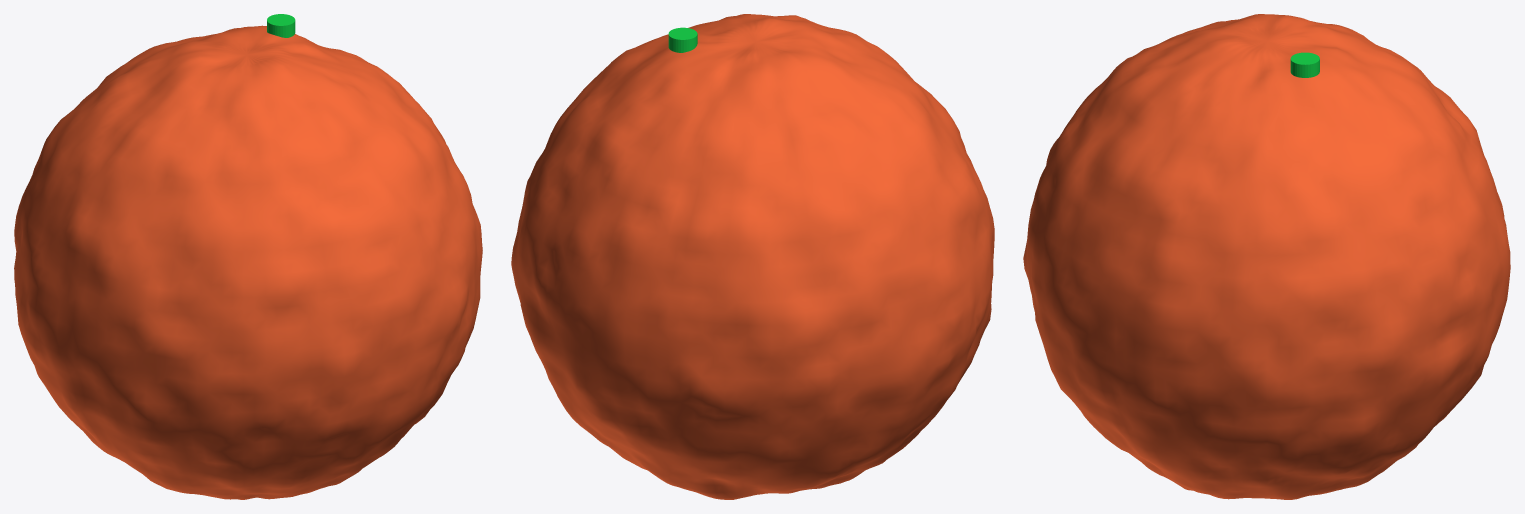
The model's file is orange.fbx.
3 renders of one model, left to right at view 1: azimuth 30°, elevation 25°; view 2: azimuth 150°, elevation 25°; view 3: azimuth 270°, elevation 25°, orthographic. The views are drawn at different scales.
Visible parts, largest first — view 1: Sphere, Cylinder.001; view 2: Sphere, Cylinder.001; view 3: Sphere, Cylinder.001.
Part boxes in pixels (bbox=[...]): Sphere: bbox=[14, 25, 482, 499]; Cylinder.001: bbox=[267, 14, 295, 37]; Sphere: bbox=[511, 14, 994, 499]; Cylinder.001: bbox=[668, 27, 697, 52]; Sphere: bbox=[1023, 14, 1510, 499]; Cylinder.001: bbox=[1290, 52, 1319, 77].
Bounding box in the file's own units: 200 × 202 × 200.
